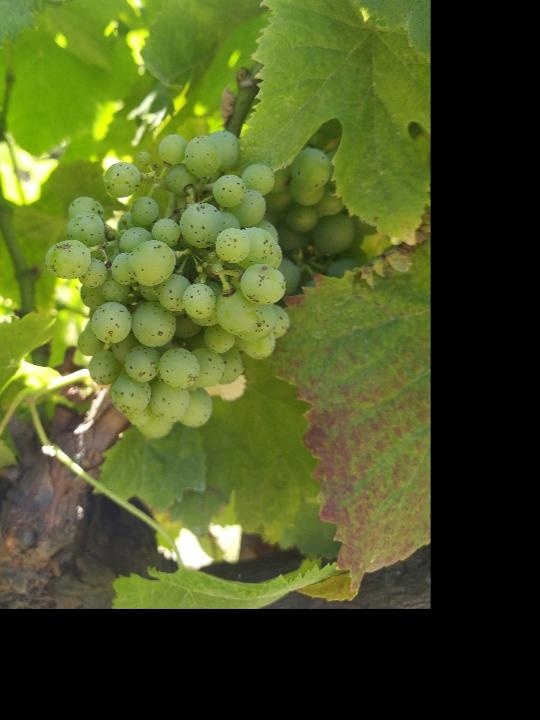grape: (44, 129, 293, 440)
